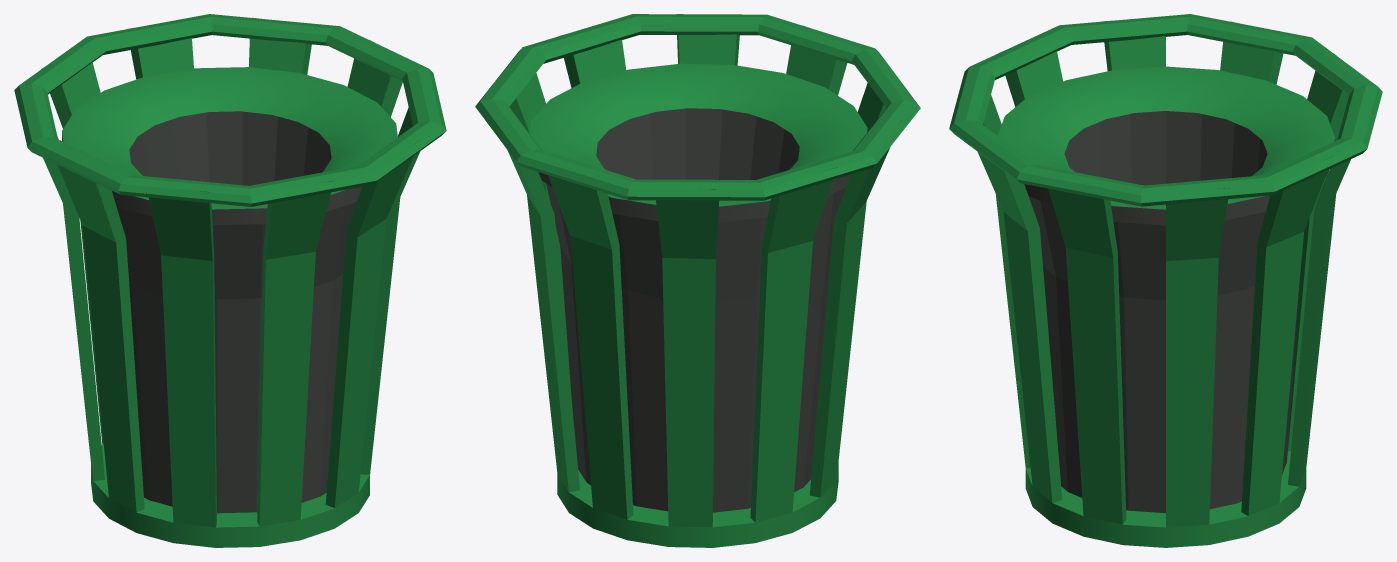
The model's file is trashcan.fbx.
3 views of the same model, side by side, from view 1: azimuth 30°, elevation 25°; view 2: azimuth 150°, elevation 25°; view 3: azimuth 270°, elevation 25° (orthographic).
Parts seen in each view (by area): view 1: pTorus3; view 2: pTorus3; view 3: pTorus3.
Part boxes in pixels (x1=…): pTorus3: x1=14, y1=14, x2=446, y2=547; pTorus3: x1=475, y1=14, x2=920, y2=547; pTorus3: x1=949, y1=14, x2=1382, y2=547.
Bounding box in the file's own units: 3.28 × 3.18 × 3.23.
